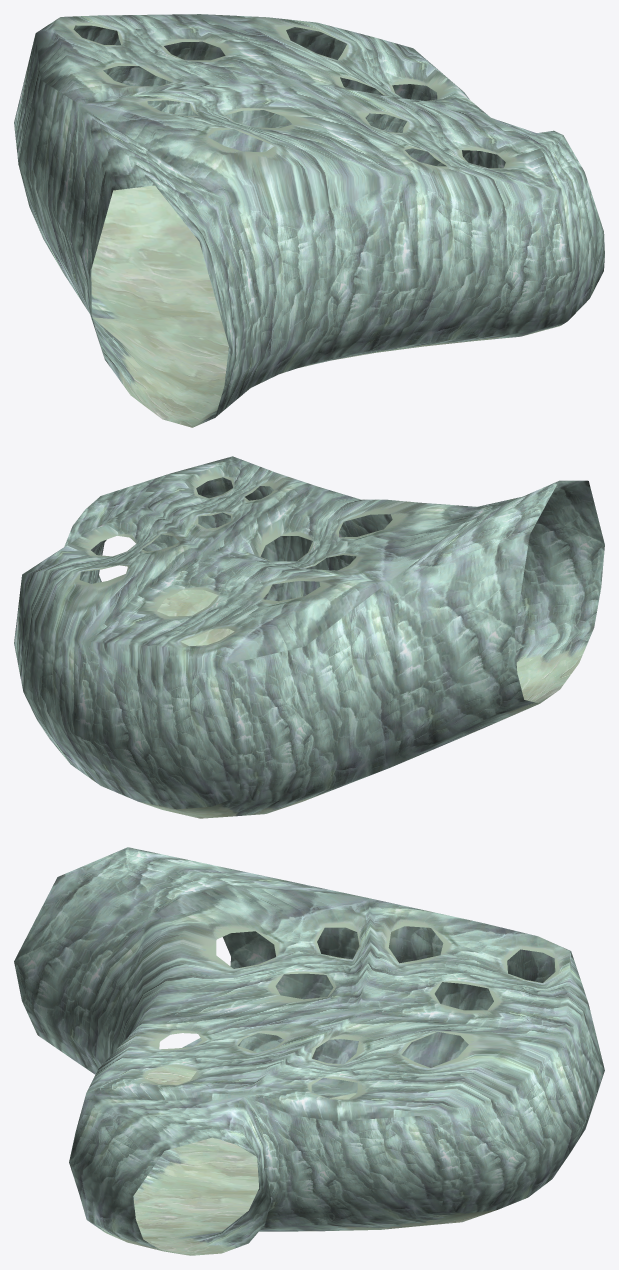
File: TROLLHOLE02_PS-MAINCAVE03.fbx
3 renders of one model, top to bottom at view 1: azimuth 30°, elevation 25°; view 2: azimuth 150°, elevation 25°; view 3: azimuth 270°, elevation 25°, orthographic. The views are drawn at different scales.
Parts seen in each view (by area): view 1: TROLLHOLE02_PS-MAINCAVE03; view 2: TROLLHOLE02_PS-MAINCAVE03; view 3: TROLLHOLE02_PS-MAINCAVE03.
Part boxes in pixels (x1=…): TROLLHOLE02_PS-MAINCAVE03: x1=14, y1=14, x2=604, y2=427; TROLLHOLE02_PS-MAINCAVE03: x1=14, y1=456, x2=604, y2=818; TROLLHOLE02_PS-MAINCAVE03: x1=14, y1=847, x2=604, y2=1255.
Size of the model in its own units: 237091 by 126803 by 276699.
Materials: 5 (5 with a texture image).
